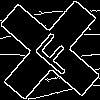F: (25, 25, 80, 78)
